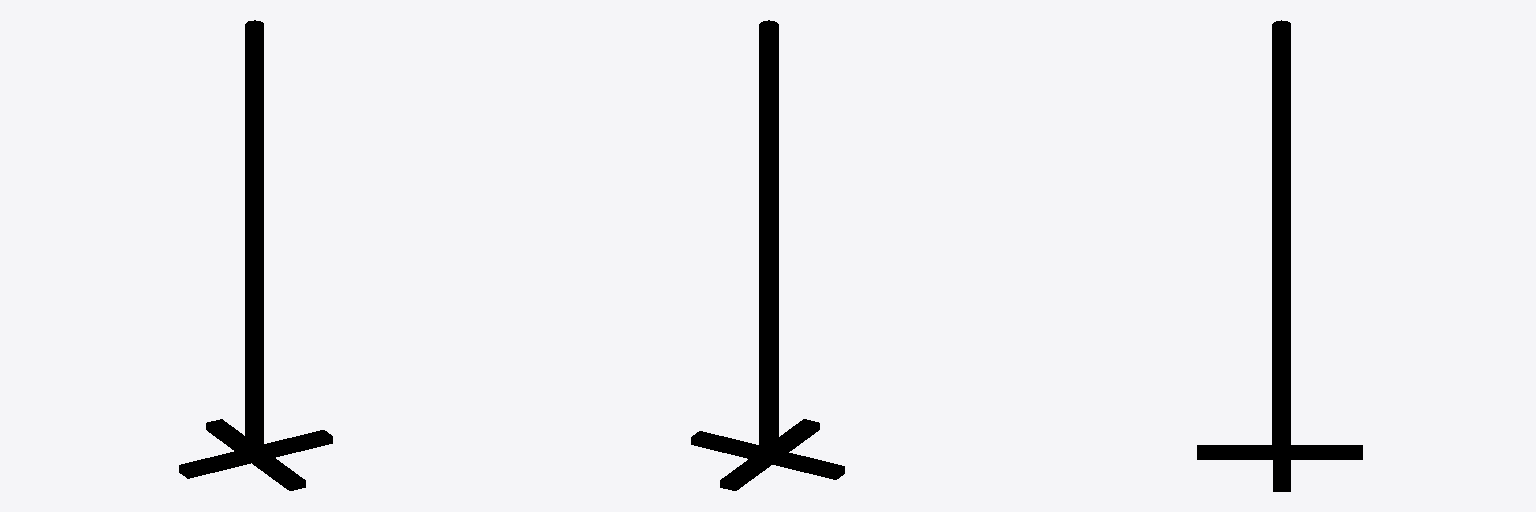
robot.urdf — cube.urdf:
<?xml version="0.0" ?>
<robot name="cube.urdf">
  <link name="baseLink">
    <contact>
      <lateral_friction value="1.0"/>
      <rolling_friction value="1.0"/>
      <inertia_scaling value="3.0"/>
      <contact_cfm value="0.0"/>
      <contact_erp value="1.0"/>
    </contact>
    <inertial>
      <origin rpy="0 0 0" xyz="0 0 0"/>
       <mass value=".0"/>
       <inertia ixx="1" ixy="0" ixz="0" iyy="1" iyz="0" izz="1"/>
    </inertial>
    <visual>
      <origin rpy="1.5708 0 0" xyz=" -0.22067893203883496 0.4253763203883495 0.1 "/>
      <geometry>
				<mesh filename="pole.obj" scale=" 1 1 1 "/>
      </geometry>
       <material name="white">
        <color rgba="0 0 0 1"/>
      </material>
    </visual>
    <collision>
      <origin rpy="0 0 0" xyz="0 0 0"/>
      <geometry>
	 	<mesh filename="pole.obj" scale="0 0 0"/>
      </geometry>
    </collision>
  </link>
</robot>

--- What the picture shows (computed from the rendered views, not written in the file) ---
3 views of the same robot in one strip: view 1: azimuth 30°, elevation 25°; view 2: azimuth 150°, elevation 25°; view 3: azimuth 270°, elevation 25° (orthographic).
Model cube.urdf with 1 links and 0 joints (none), rooted at baseLink, posed every joint at zero.
Visible links, largest first — view 1: baseLink; view 2: baseLink; view 3: baseLink.
Boxes of the visible links, box(x1,y1,x2,y2) form: baseLink: box(179, 20, 332, 490); baseLink: box(691, 20, 844, 490); baseLink: box(1197, 20, 1362, 491).
Size in the robot's own frame: 0.3507 by 0.3507 by 1 metres.
Meshes: 1 distinct files referenced, 1 mesh visuals loaded (1 OBJ).
